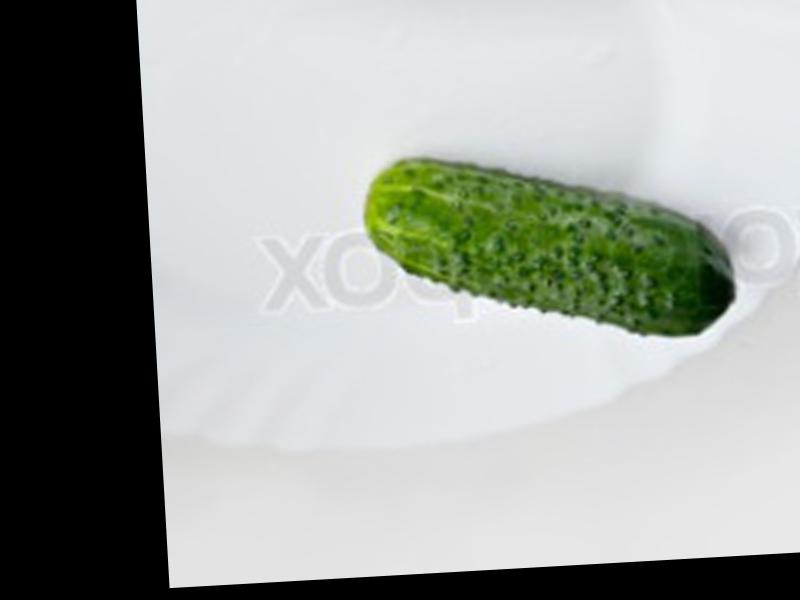Cucumber: (363, 140, 733, 353)
